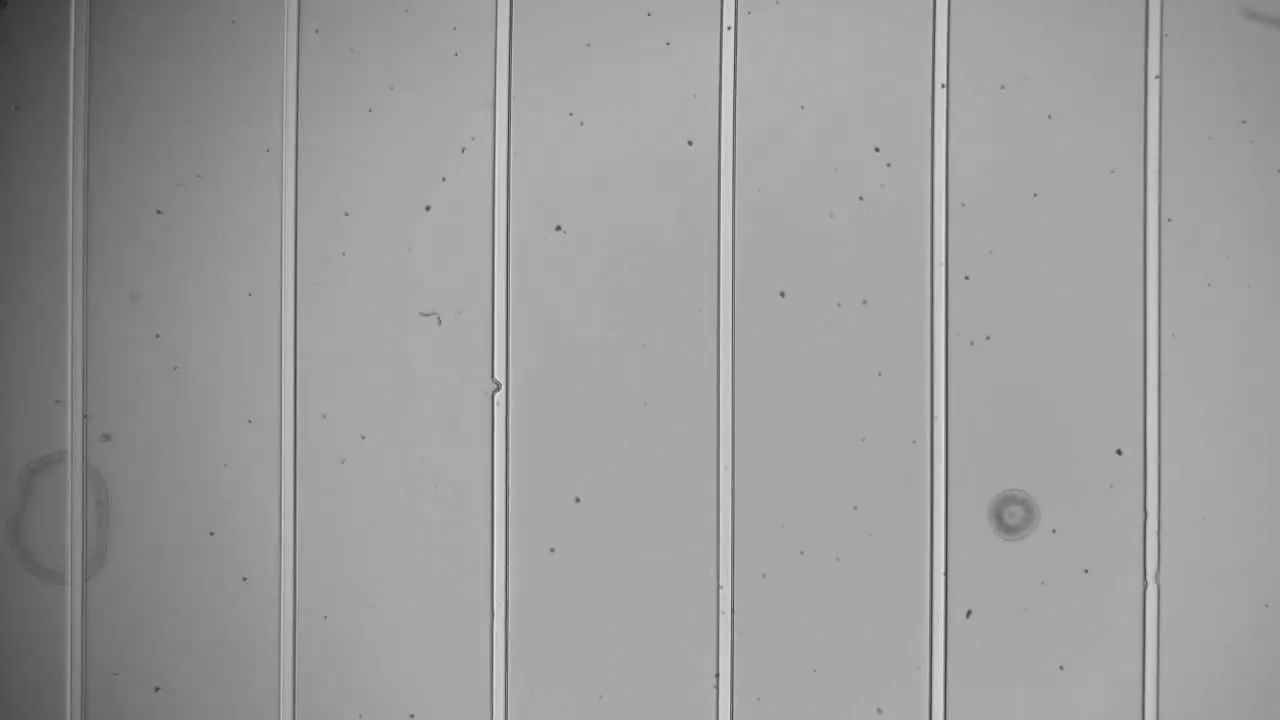edge_bite: (1131, 556, 1170, 597), (485, 369, 515, 402)
